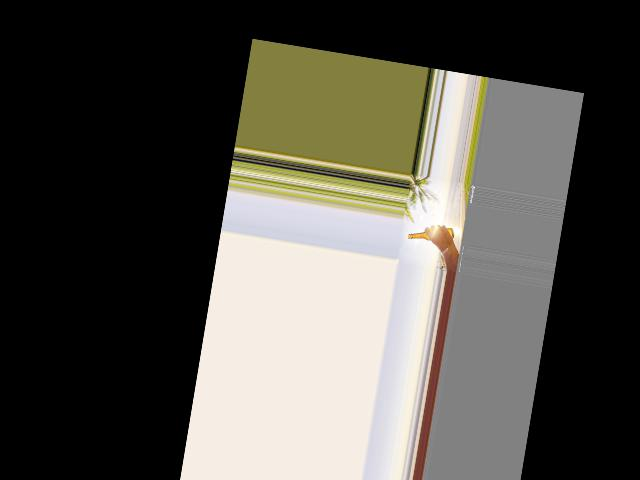beer: (407, 221, 455, 247)
